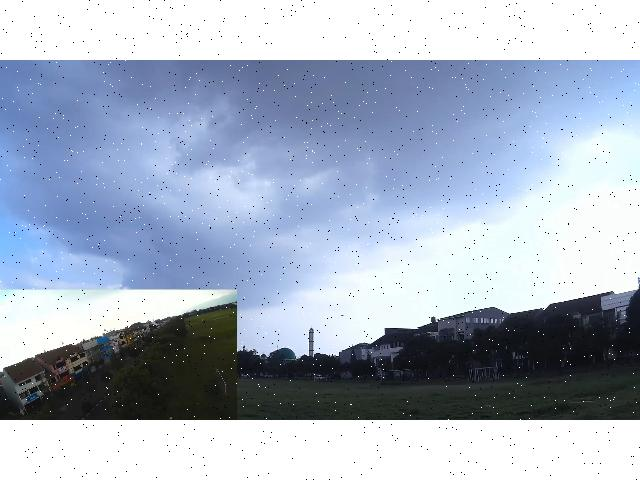Anti-Drone: (335, 304, 347, 320)
